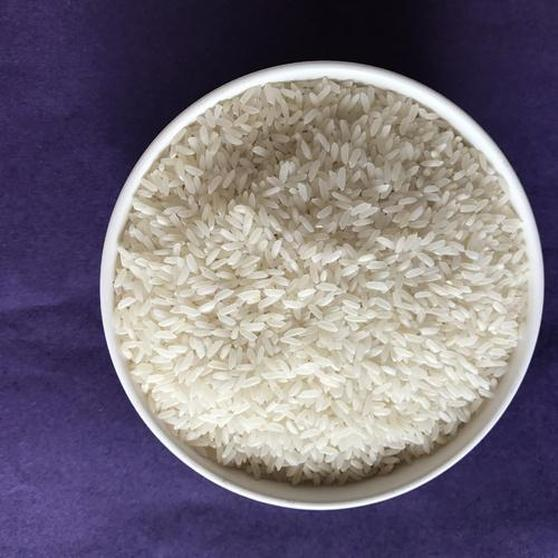rice: (132, 90, 529, 487)
